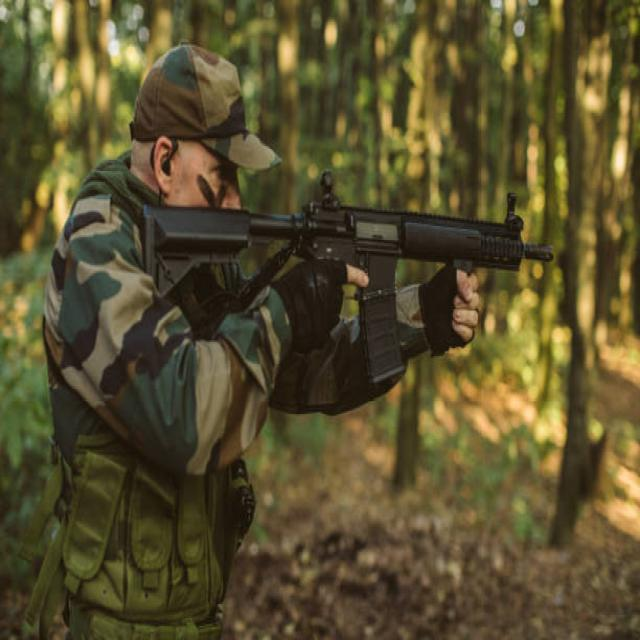soldier: (46, 38, 555, 640)
